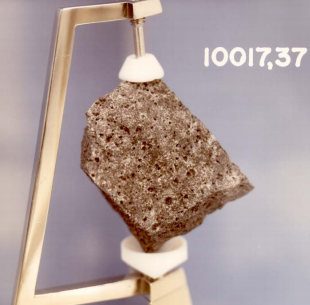Basalt: (80, 77, 249, 232)
